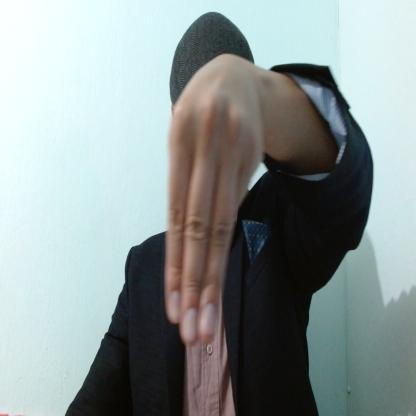M: (166, 56, 260, 347)
